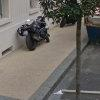Motorcycle: (14, 14, 62, 61)
